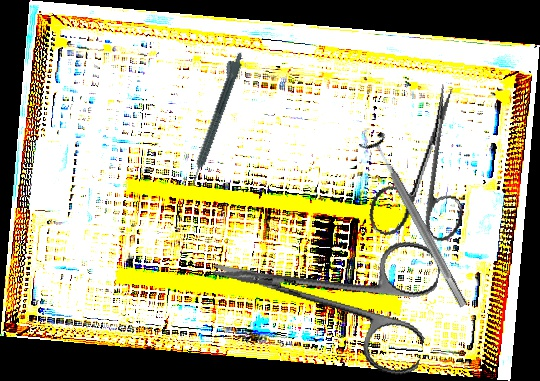Fixation Ring: (357, 130, 477, 314)
Handpiece: (182, 48, 246, 188)
Iris Scissors: (199, 199, 446, 380), (365, 74, 491, 251)
